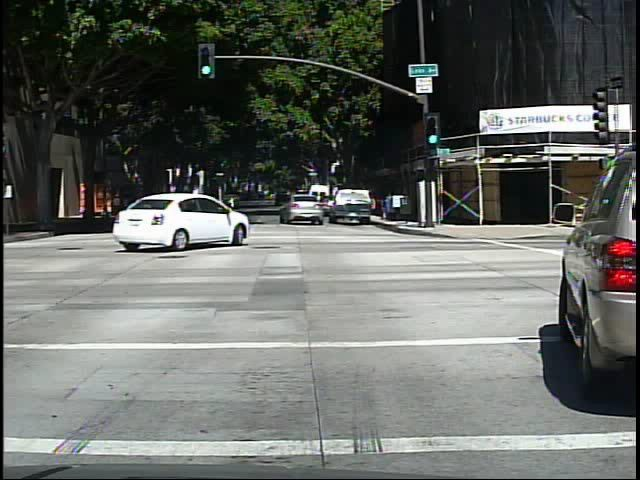person: (107, 186, 124, 221)
